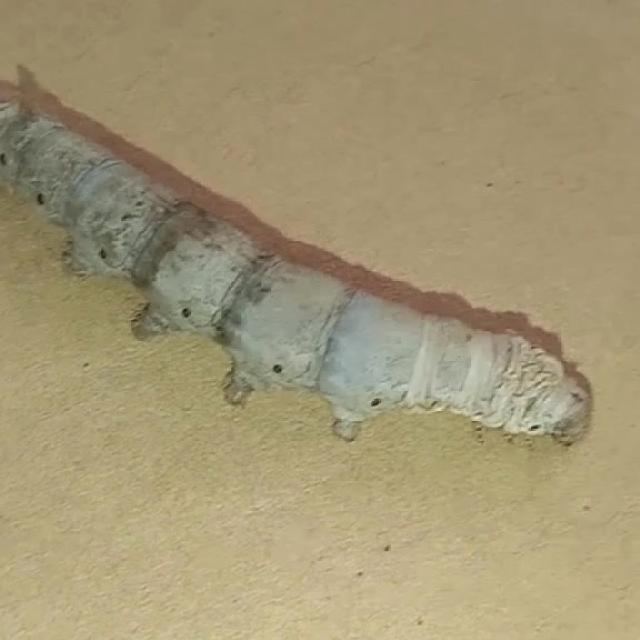Grasserie: (0, 74, 596, 477)
